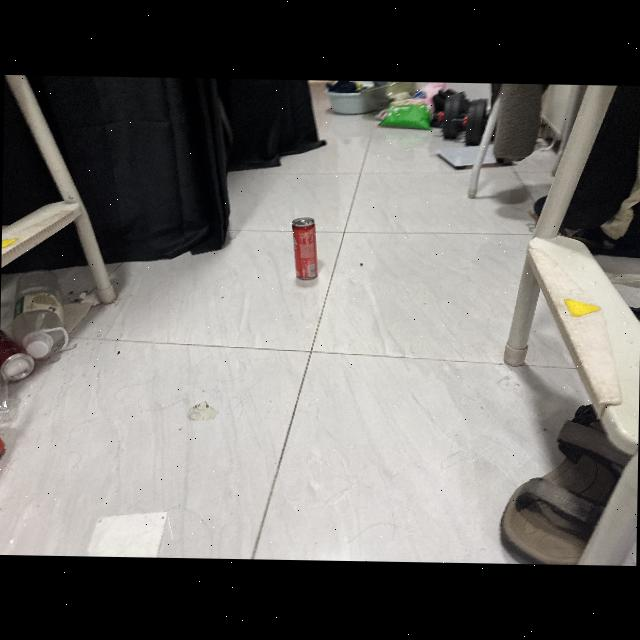Cola: (286, 208, 322, 289)
